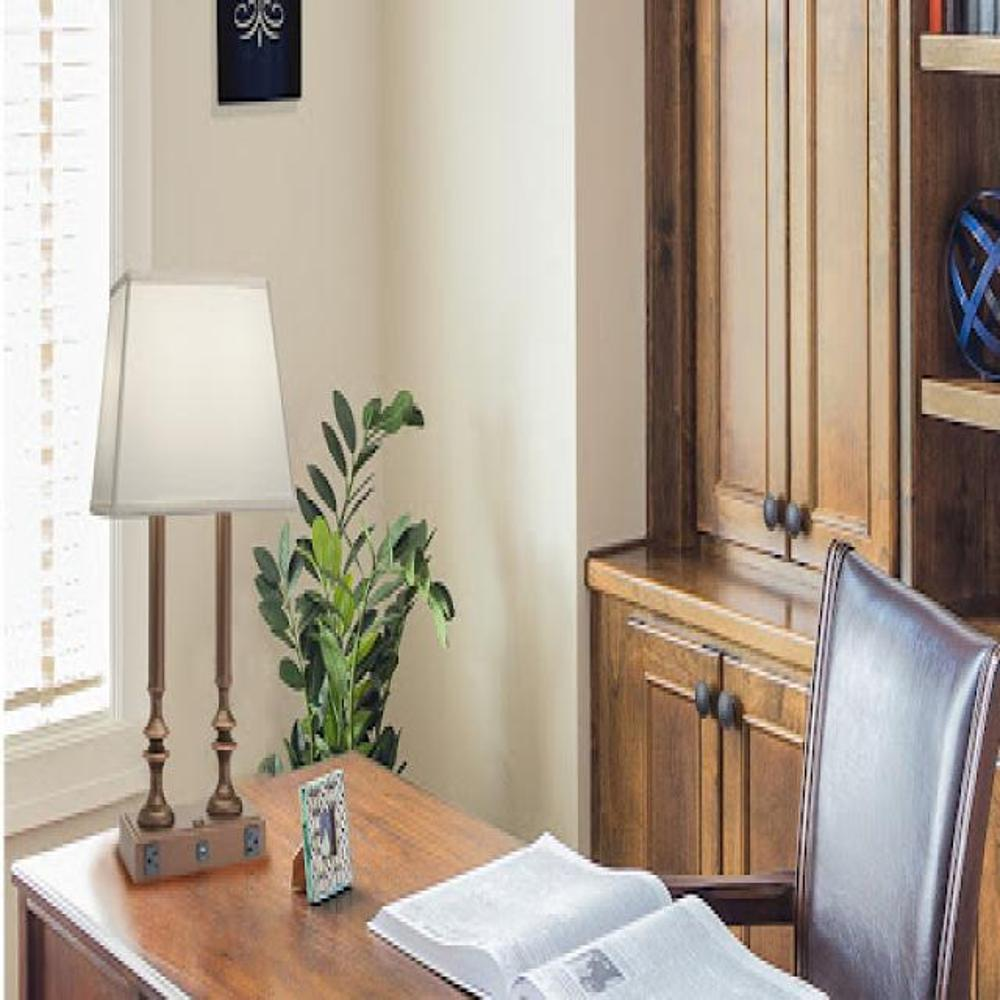shelf: (96, 257, 284, 903)
